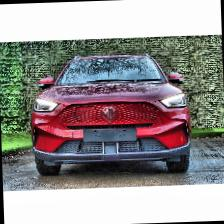EV: (29, 50, 193, 178)
